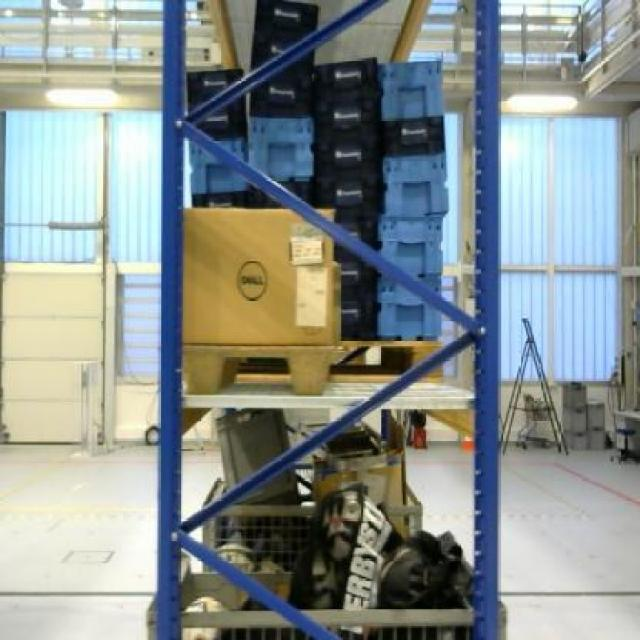box: (184, 206, 338, 345)
